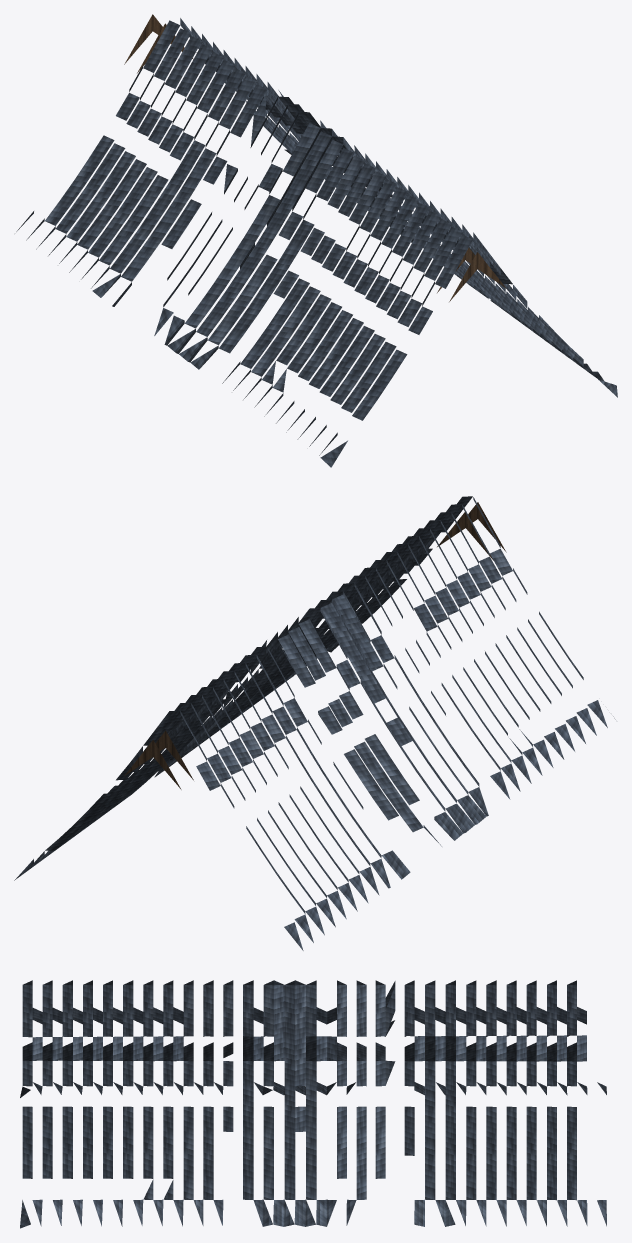
File: Roof_Slate_6x14_LOD1.gltf
3 renders of one model, top to bottom at view 1: azimuth 30°, elevation 25°; view 2: azimuth 150°, elevation 25°; view 3: azimuth 270°, elevation 25°, orthographic. The views are drawn at different scales.
Parts seen in each view (by area): view 1: Roof_Slate_6x14_LOD1; view 2: Roof_Slate_6x14_LOD1; view 3: Roof_Slate_6x14_LOD1.
Part boxes in pixels (x1,y1,x2,y2): Roof_Slate_6x14_LOD1: (16, 14, 617, 467); Roof_Slate_6x14_LOD1: (14, 496, 615, 950); Roof_Slate_6x14_LOD1: (20, 980, 606, 1228).
Bounding box in the file's own units: 8.25 × 5.17 × 15.66.
Materials: 2 (2 with a texture image).
